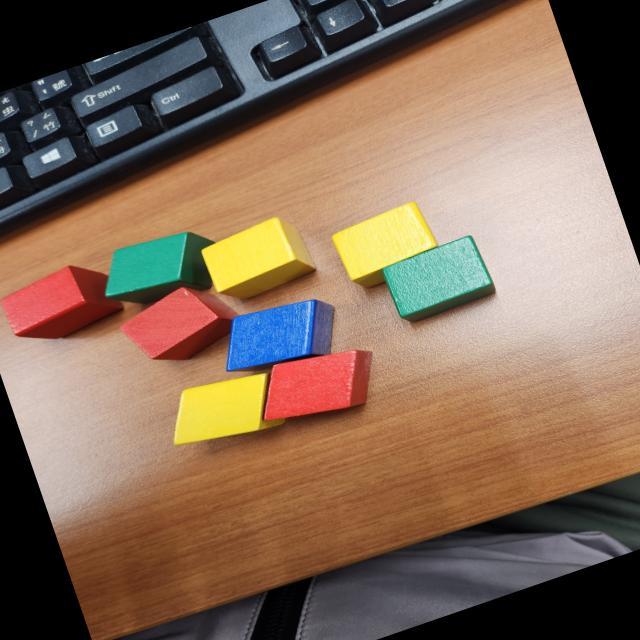blue: (208, 283, 350, 390)
green: (88, 212, 236, 322), (378, 231, 501, 328)
red: (246, 332, 388, 438), (110, 271, 250, 378), (0, 251, 129, 355)
yellow: (156, 359, 292, 462), (196, 209, 318, 307), (328, 198, 446, 294)
